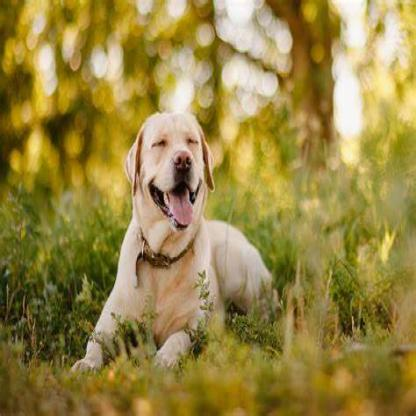Labarador Retriever: (69, 114, 289, 378)
